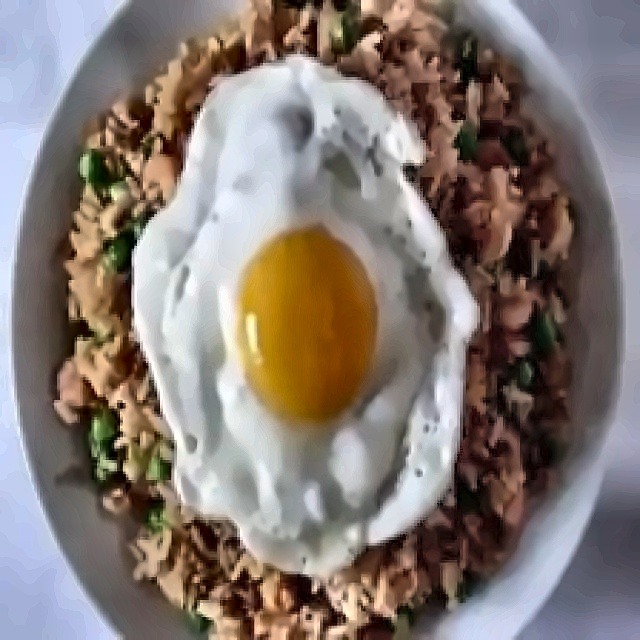egg: (143, 59, 463, 554)
